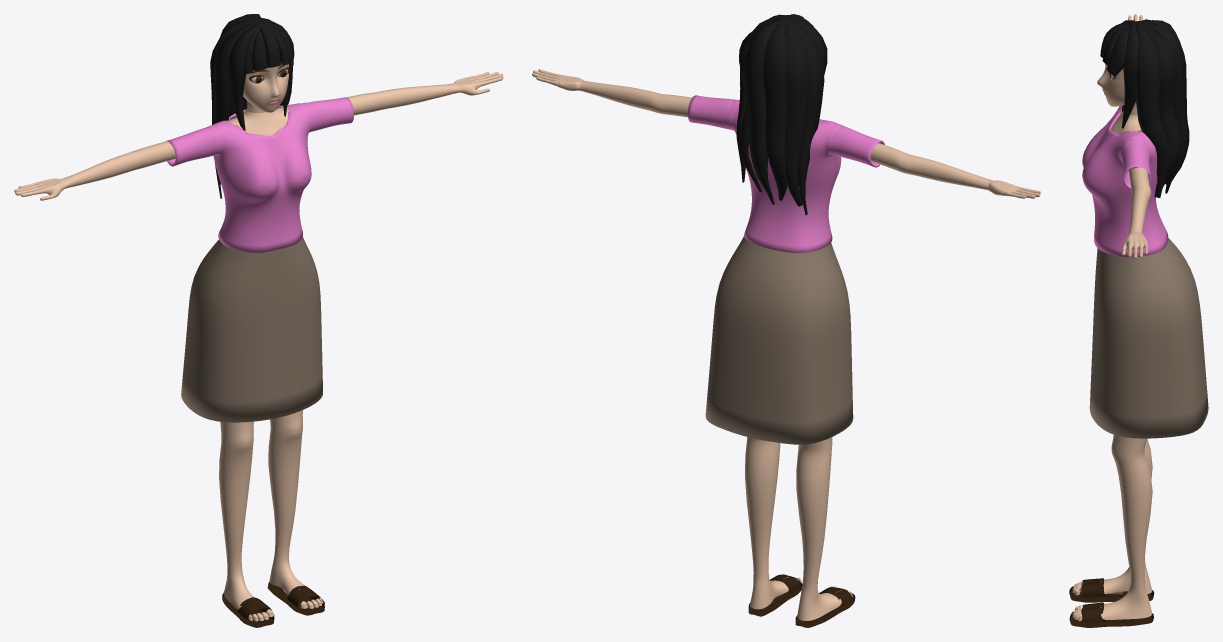
Rendered from Diana_LSP.fbx.
3 renders of one model, left to right at view 1: azimuth 30°, elevation 25°; view 2: azimuth 150°, elevation 25°; view 3: azimuth 270°, elevation 25°, orthographic. The views are drawn at different scales.
Parts seen in each view (by area): view 1: rok, body, Baju, haircurve.007, haircurve.006; view 2: rok, body, haircurve.007, Baju; view 3: rok, body, Baju, haircurve.007, haircurve.005, haircurve.003, haircurve.002, haircurve.000.
Boxes of the visible parts, bbox=[...] form: rok: bbox=[181, 237, 322, 422]; body: bbox=[14, 62, 503, 627]; Baju: bbox=[167, 97, 353, 252]; haircurve.007: bbox=[210, 14, 292, 198]; haircurve.006: bbox=[227, 22, 264, 130]; rok: bbox=[705, 236, 853, 444]; body: bbox=[532, 69, 1040, 627]; haircurve.007: bbox=[736, 16, 824, 215]; Baju: bbox=[688, 95, 884, 252]; rok: bbox=[1089, 238, 1208, 438]; body: bbox=[1069, 14, 1154, 627]; Baju: bbox=[1082, 105, 1168, 257]; haircurve.007: bbox=[1135, 19, 1189, 197]; haircurve.005: bbox=[1121, 22, 1138, 128]; haircurve.003: bbox=[1107, 25, 1130, 76]; haircurve.002: bbox=[1102, 25, 1129, 65]; haircurve.000: bbox=[1100, 23, 1130, 57].
Bounding box in the file's own units: 1752 × 1975 × 425.
